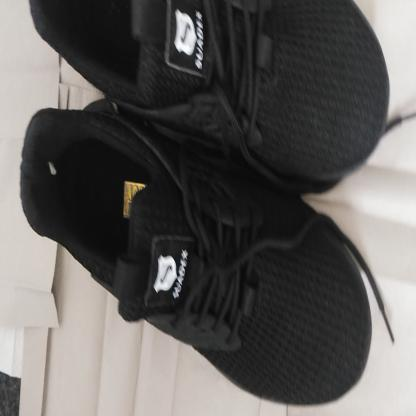safety-shoe: (15, 0, 390, 407)
